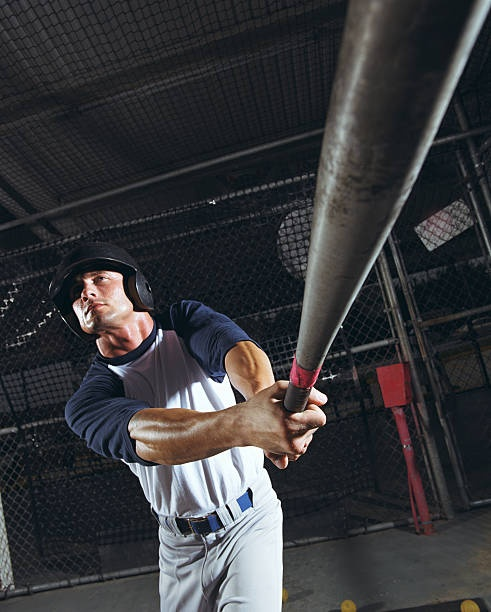bita: (284, 1, 482, 412)
